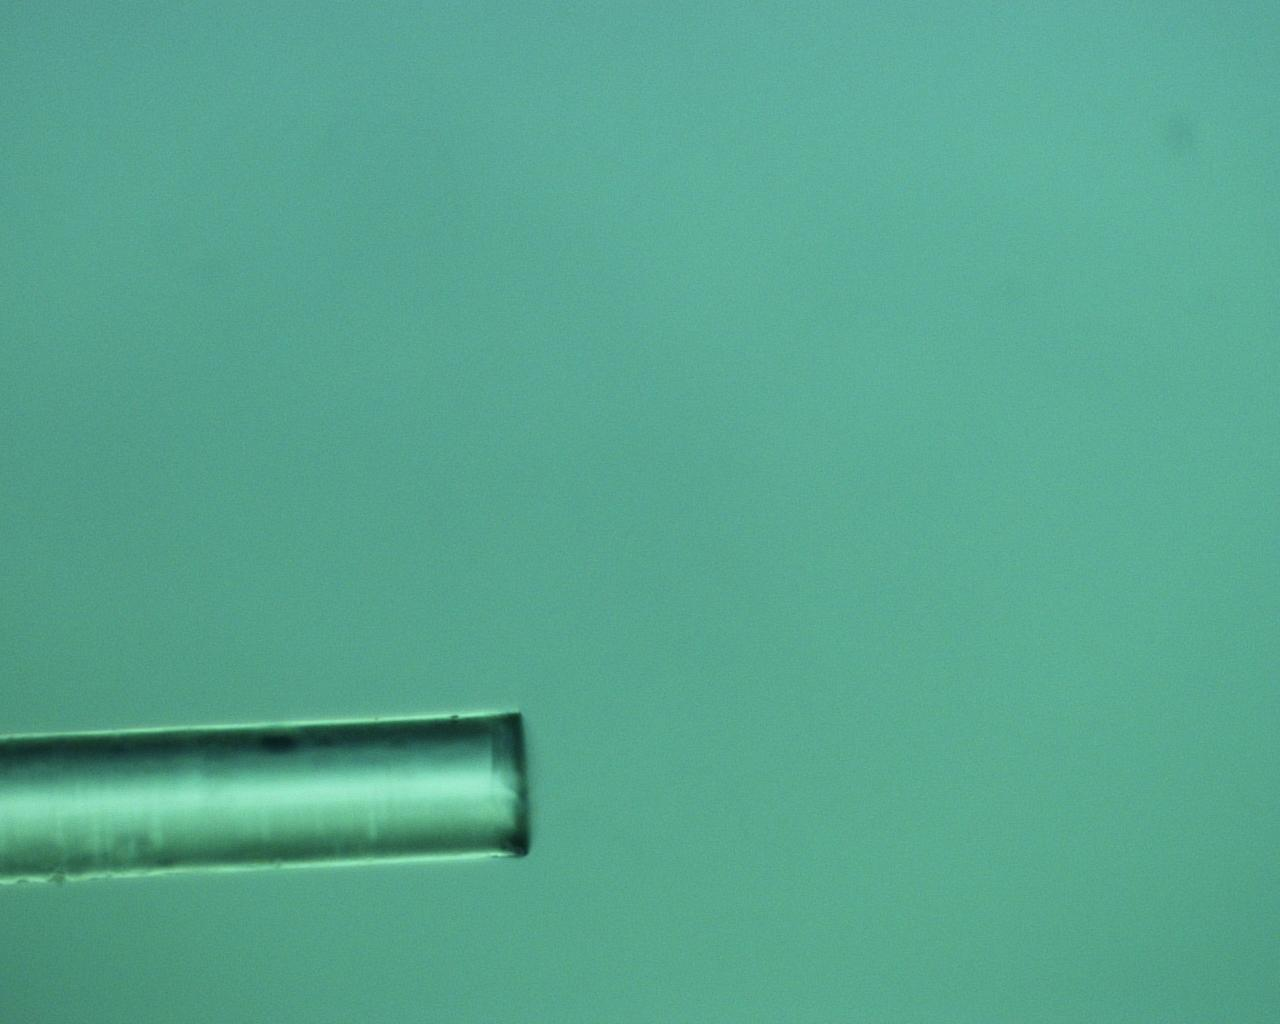fiber: (0, 712, 533, 883)
